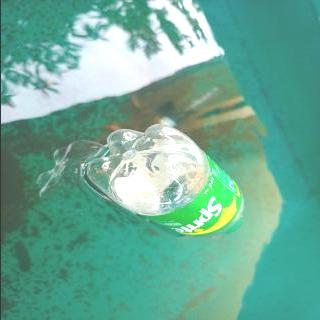bottle: (84, 122, 245, 238)
